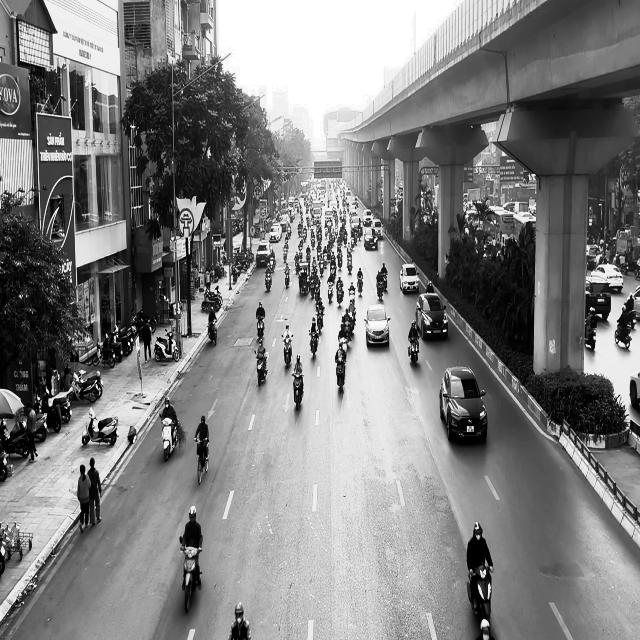car: (439, 365, 488, 443), (415, 292, 448, 340), (363, 304, 391, 347), (399, 262, 419, 292)
motorbike: (180, 535, 202, 613), (82, 406, 118, 446), (158, 412, 179, 462), (154, 328, 179, 362), (194, 437, 210, 484), (254, 349, 268, 385), (614, 321, 632, 348), (292, 371, 304, 411), (335, 351, 346, 392), (282, 334, 292, 368), (408, 334, 419, 364), (308, 329, 318, 358), (207, 320, 217, 346), (256, 315, 264, 339), (264, 267, 272, 290), (284, 265, 290, 288)
